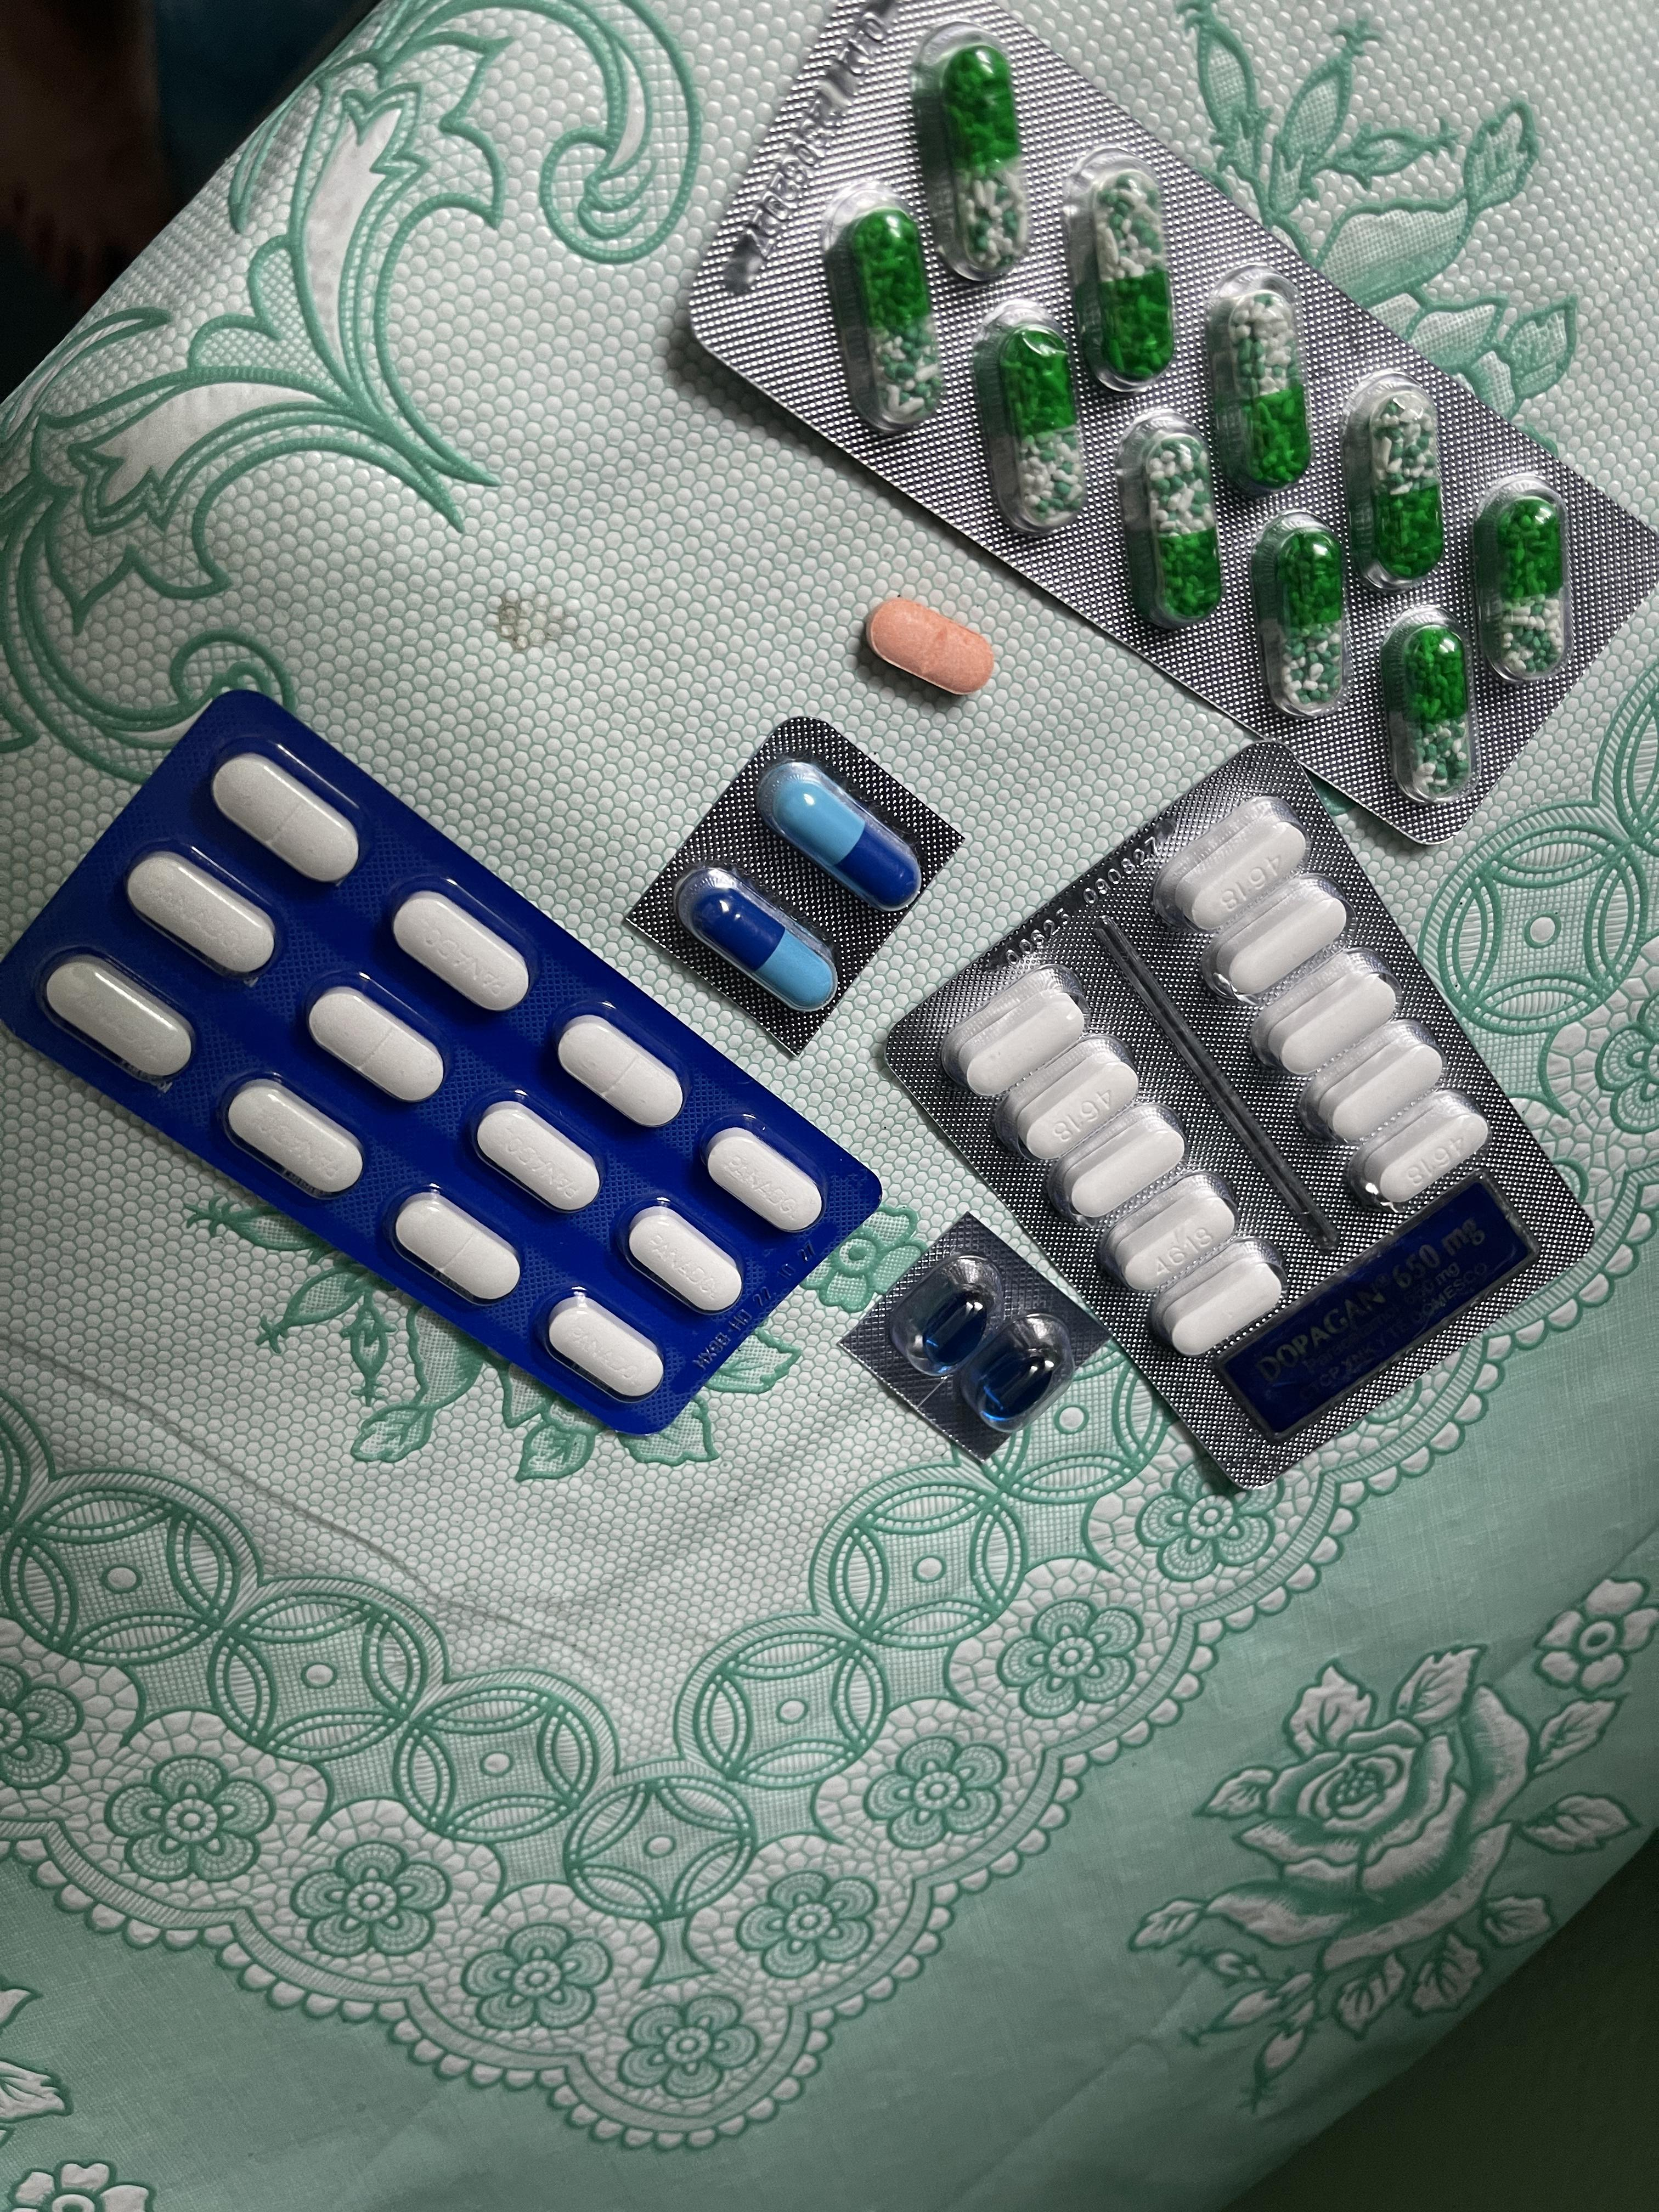Lincomyxin_500mg: (969, 1329, 1060, 1421), (911, 1286, 991, 1368)
Loratadine_10mg: (868, 593, 996, 693)
Paracetamol_350mg: (212, 752, 363, 886), (43, 956, 194, 1086), (127, 850, 277, 980), (391, 890, 533, 1013), (307, 985, 447, 1103), (224, 1080, 365, 1197), (555, 1013, 689, 1129), (472, 1099, 602, 1214), (390, 1191, 521, 1304), (621, 1203, 745, 1313), (701, 1125, 825, 1234), (540, 1294, 666, 1400)
Paracetamol_500mg: (1158, 803, 1307, 936), (1001, 1042, 1142, 1176), (942, 968, 1083, 1094), (1255, 957, 1400, 1079), (1209, 884, 1349, 1005), (1308, 1030, 1448, 1150), (1105, 1178, 1245, 1297), (1055, 1101, 1187, 1225), (1355, 1090, 1491, 1206), (1158, 1253, 1286, 1357)
Paracetamol_650mg: (940, 42, 1027, 276), (849, 211, 939, 420), (1000, 330, 1088, 540), (1252, 516, 1346, 710), (1221, 291, 1305, 482), (1093, 176, 1173, 374), (1142, 436, 1218, 614), (1491, 500, 1566, 676), (1367, 400, 1442, 577), (1397, 626, 1469, 789)
pill: (765, 761, 922, 908), (687, 868, 839, 1012)
